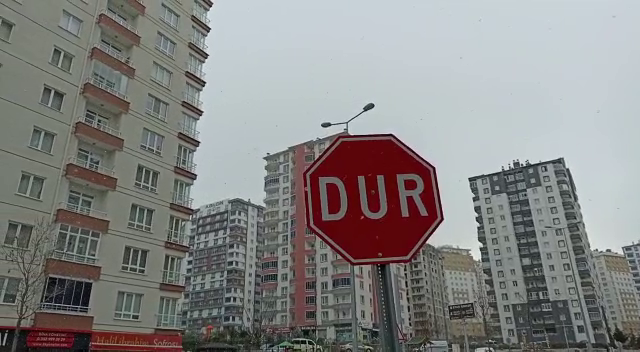stop: (298, 132, 448, 267)
